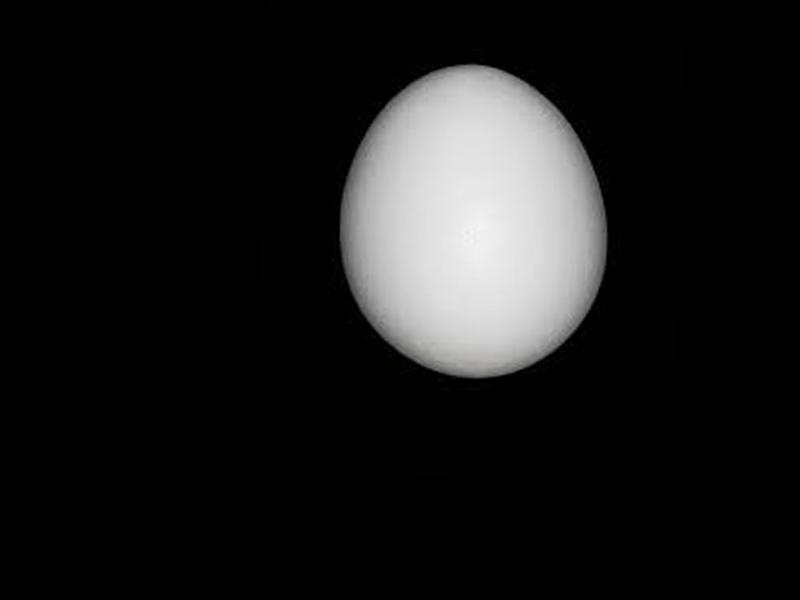Eggs: (335, 63, 611, 380)
